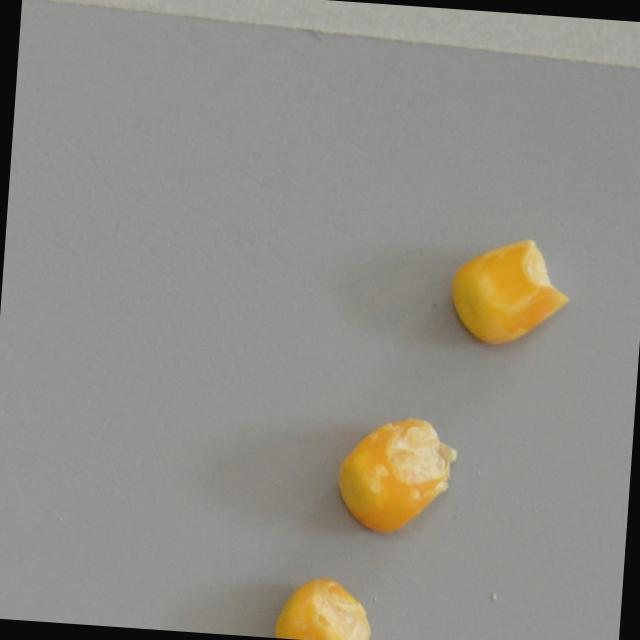no_desgerminado: (328, 409, 461, 539), (443, 227, 576, 357), (267, 569, 379, 640)
